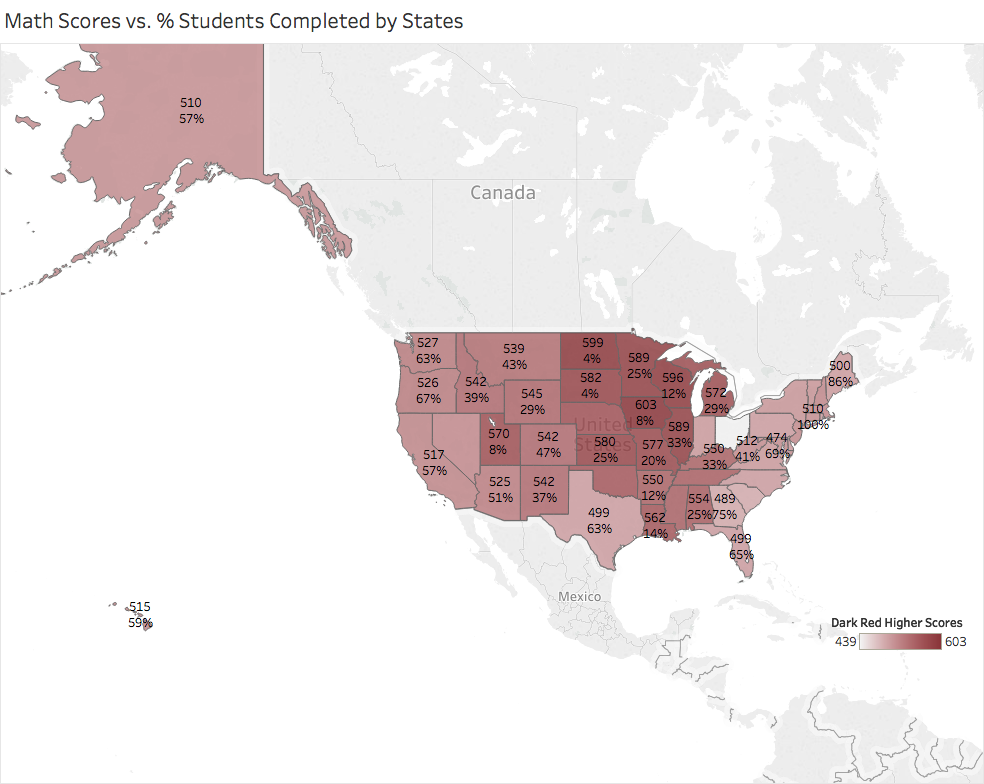

The dashboard page shown, as its layout file describes it:
{"tool":"tableau","page":{"name":"Dashboard 1","canvas":[1000,800],"ordinal":0},"visuals":[{"type":"worksheet","title":"Sheet 1","mark":"Automatic","box":[0,0,996,800]},{"type":"legend","title":"Sheet 1","param":"[federated.1cqjghu0yxf4fs17qwtxc09u2zoc].[sum:Math:qk]","box":[828,72,140,57]}]}

Visuals, with their boxes in screenshot pixels (x1, y1, x2, y2), scaled from the page's 1000x800 canvas onto the 984x784 screenshot:
"Sheet 1" worksheet: 0:0:980:783
"Sheet 1" legend: 815:71:953:126
